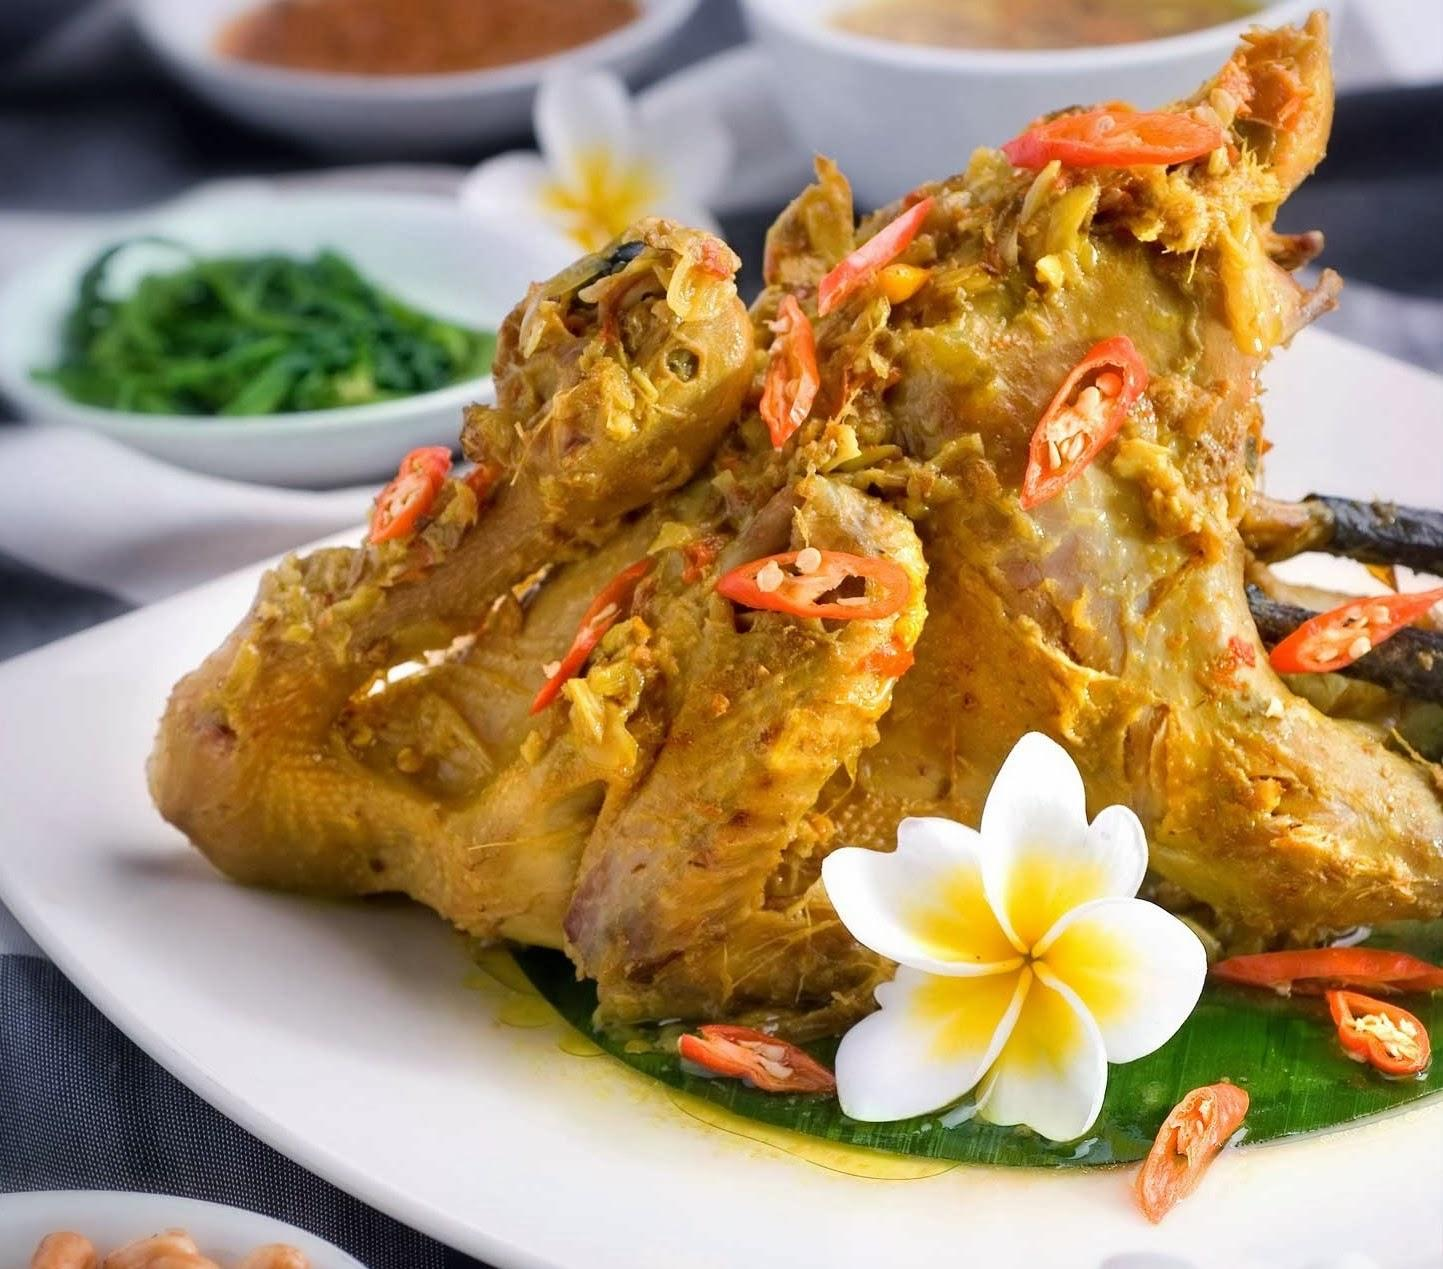ayam_betutu: (146, 9, 1443, 1030)
